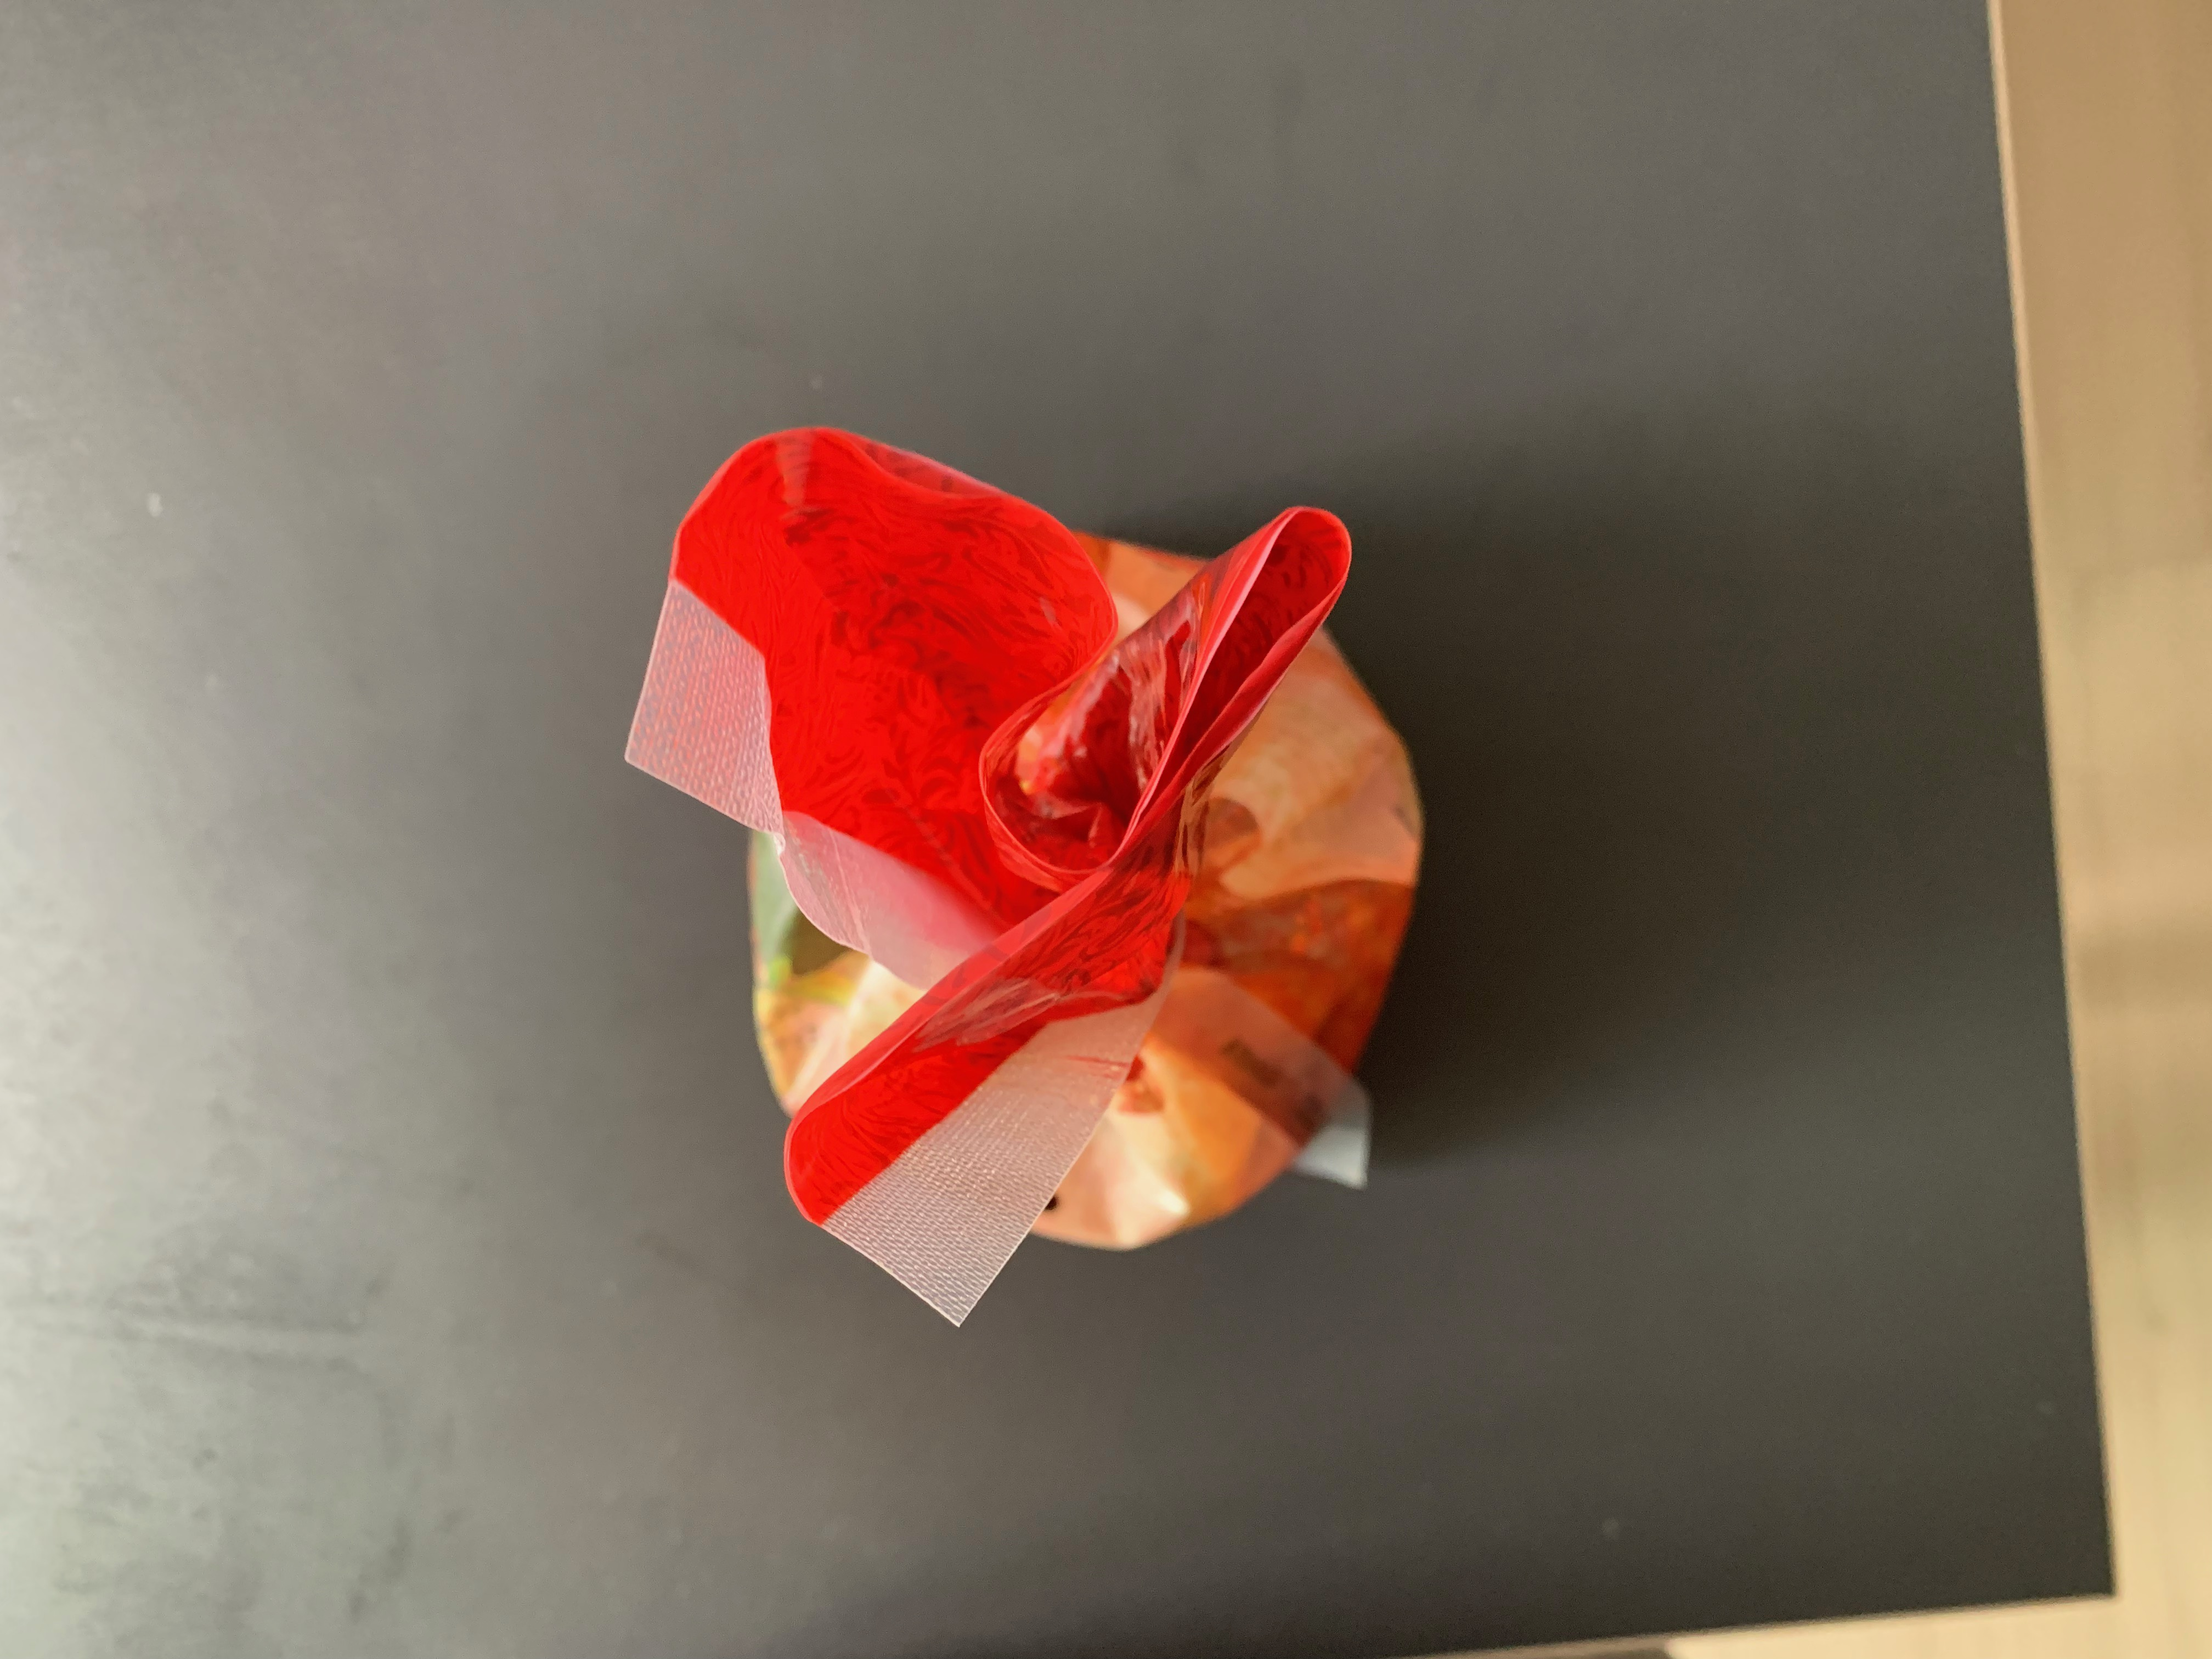kimchi: (625, 425, 1418, 1251)
